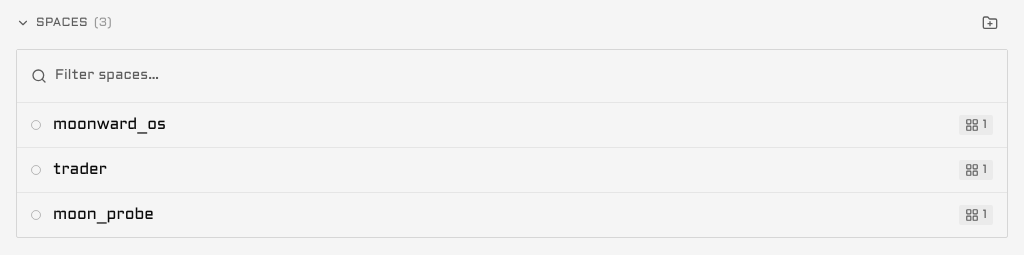
Test case: SpaceOverview — filtering › says so when nothing matches, instead of showing a bare empty area
The image size is (1024, 255).
Type "zzz" into the search field labelled "Filter spaces…" at (524,76), box [55, 58, 993, 94]
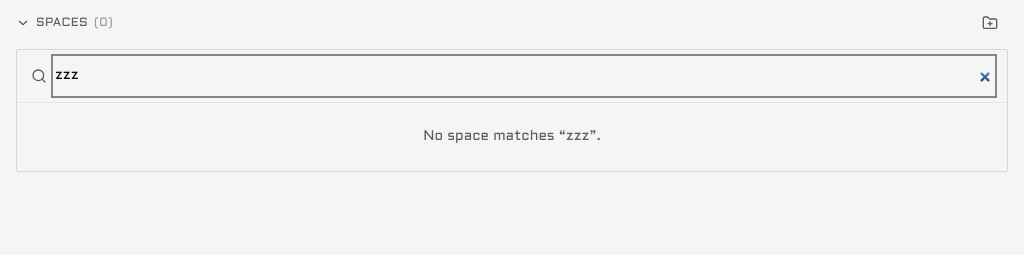
Expected: the text "No space matches “zzz”." is shown, [423, 130, 601, 143]
